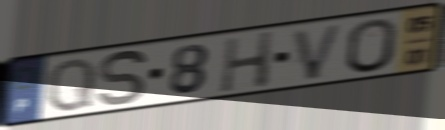8: (169, 43, 211, 96)
H: (218, 28, 277, 94)
O: (345, 17, 399, 76)
Q: (44, 55, 99, 115)
S: (96, 48, 150, 108)
V: (290, 21, 346, 83)
